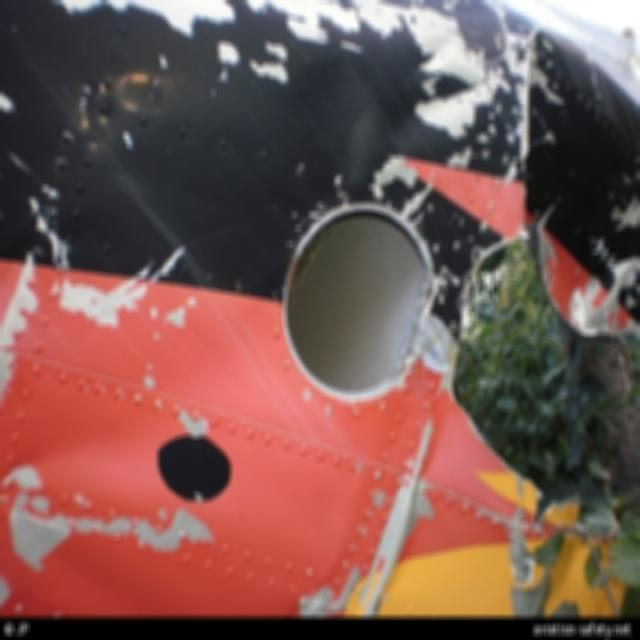dent: (289, 56, 423, 187), (1, 422, 160, 502)
